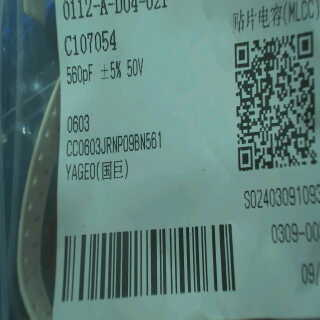560pF: (64, 59, 94, 88)
